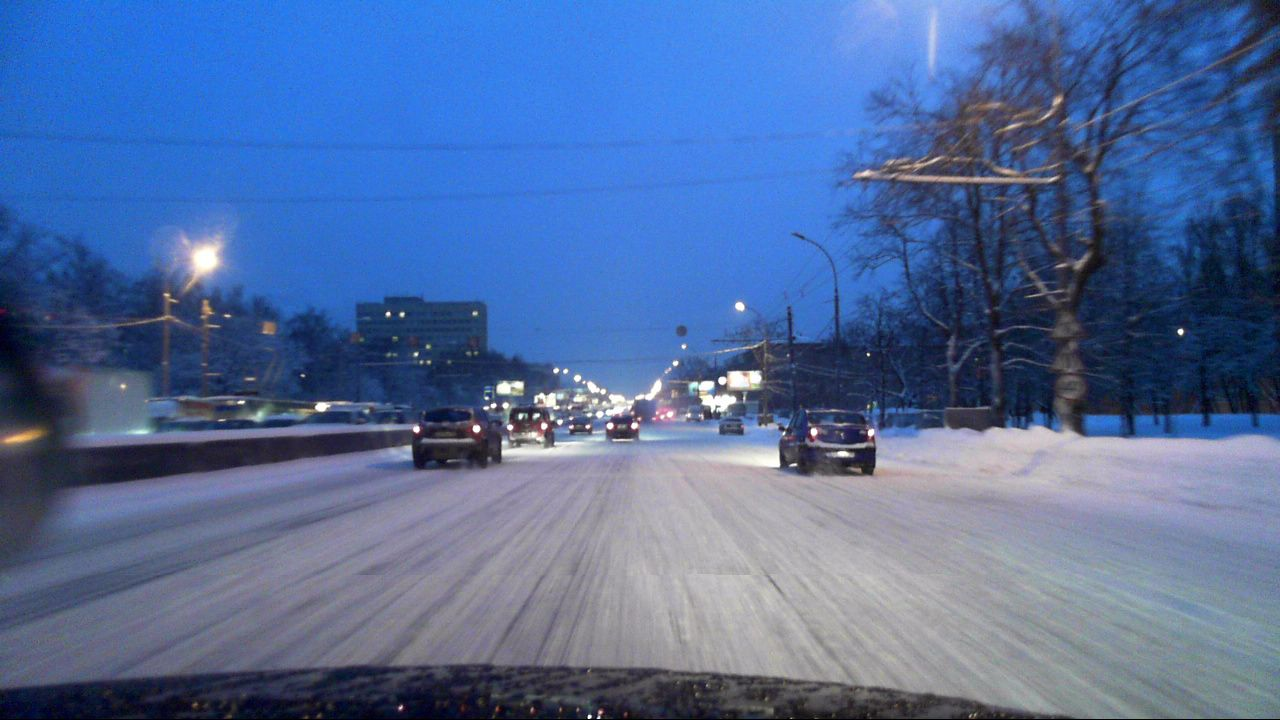speed_warning_40: (1051, 375, 1091, 401)
